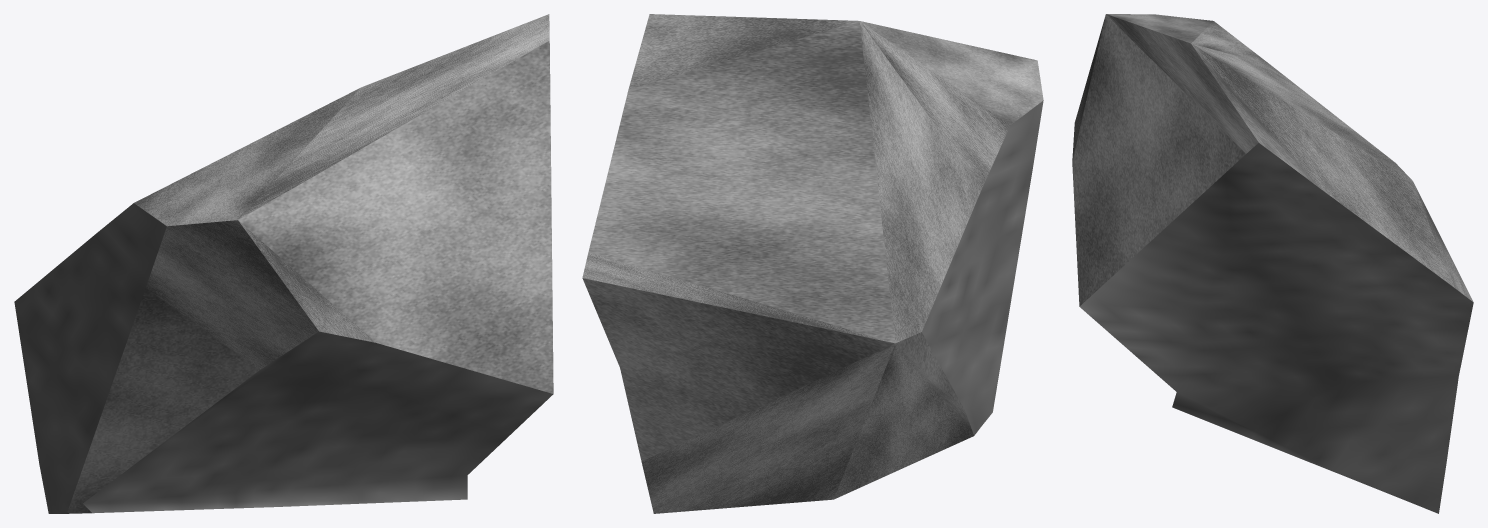
Rendered from leg_1_cell_007.fbx.
The picture shows the model from 3 angles, left to right: view 1: azimuth 30°, elevation 25°; view 2: azimuth 150°, elevation 25°; view 3: azimuth 270°, elevation 25°; orthographic projection. The views are drawn at different scales.
Visible parts, largest first — view 1: leg_1_cell.007; view 2: leg_1_cell.007; view 3: leg_1_cell.007.
Part boxes in pixels (left/top/right/bottom): leg_1_cell.007: left=14, top=14, right=553, bottom=513; leg_1_cell.007: left=582, top=14, right=1043, bottom=513; leg_1_cell.007: left=1072, top=14, right=1473, bottom=513.
Size of the model in its own units: 25.92 by 29.54 by 25.04.
